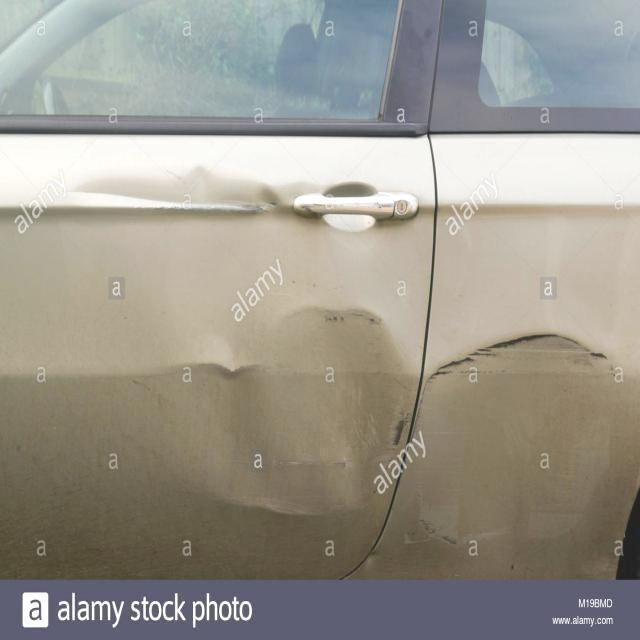minor: (405, 333, 614, 576), (185, 309, 401, 521)
